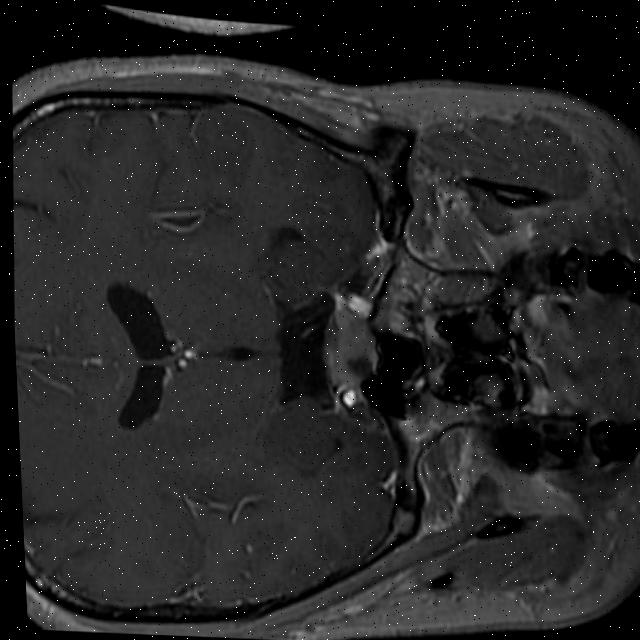Pituitary: (316, 305, 381, 390)
